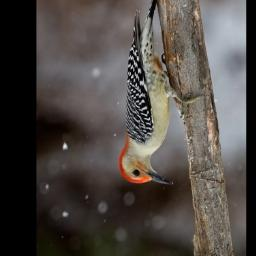Woodpecker: (119, 0, 205, 186)
